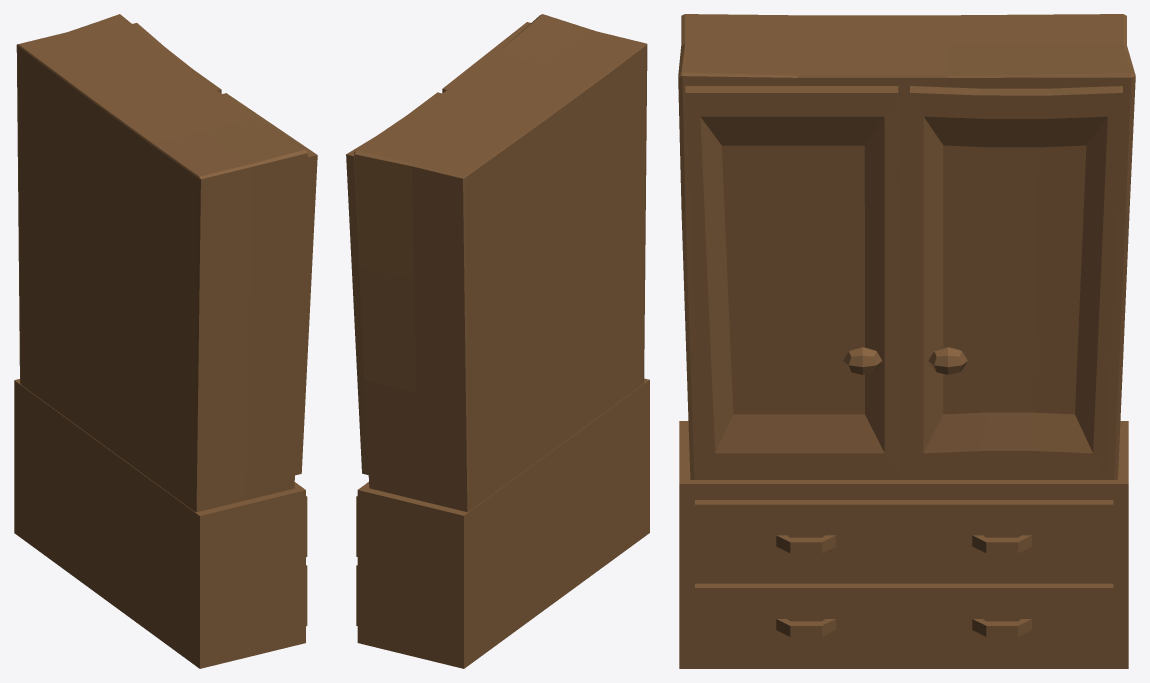
The model's file is CupboardLarge.fbx.
The picture shows the model from 3 angles, left to right: view 1: azimuth 30°, elevation 25°; view 2: azimuth 150°, elevation 25°; view 3: azimuth 270°, elevation 25°; orthographic projection. The views are drawn at different scales.
Visible parts, largest first — view 1: CupboardLarge; view 2: CupboardLarge; view 3: CupboardLarge.
Part boxes in pixels (x1=…): CupboardLarge: x1=14, y1=14, x2=317, y2=668; CupboardLarge: x1=346, y1=14, x2=649, y2=668; CupboardLarge: x1=678, y1=14, x2=1135, y2=668.
Bounding box in the file's own units: 106 × 395 × 275.
